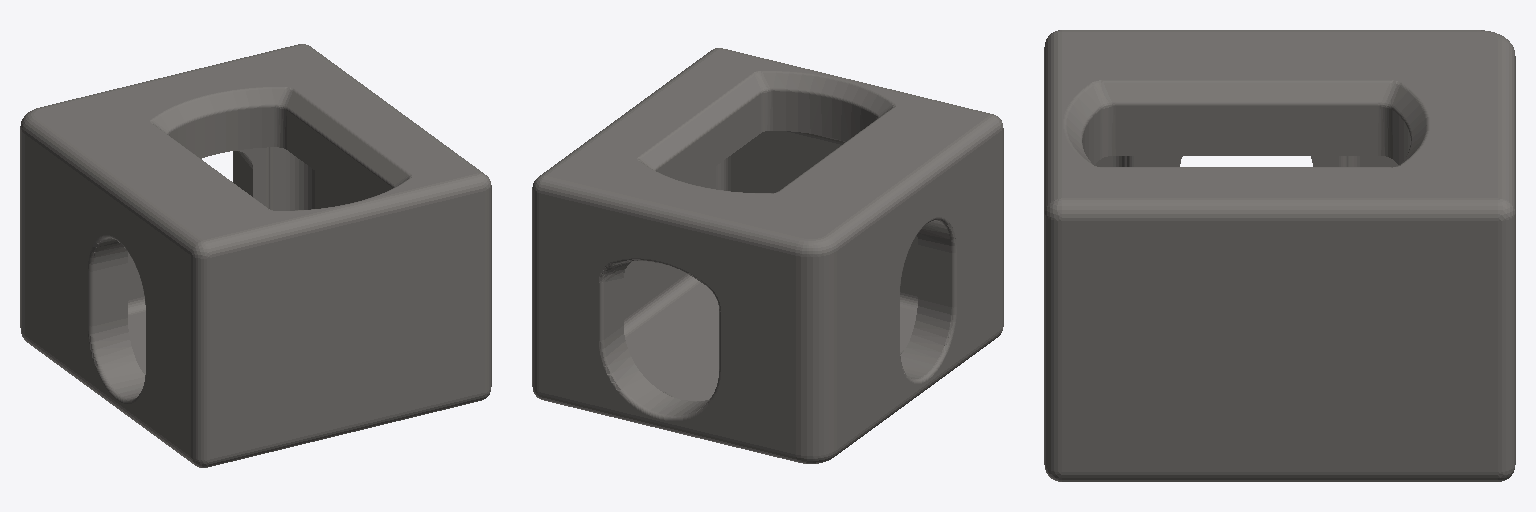
URDF robot description (environment):
<?xml version="1.0" ?>
<robot name="environment">
  <link name="table">
    <visual>
      <geometry>
        <mesh filename="package://dsr_description2/meshes/container_corner/Containerecken_oben_rechts.dae" scale="1 1 1"/>
      </geometry>
    </visual>
  </link>
</robot>


--- What the picture shows (computed from the rendered views, not written in the file) ---
The picture shows the robot from 3 angles, left to right: view 1: azimuth 30°, elevation 25°; view 2: azimuth 150°, elevation 25°; view 3: azimuth 270°, elevation 25°; orthographic projection.
Model environment with 1 links and 0 joints (none), rooted at table, posed all joints at 0.
Links seen in each view (by area): view 1: table; view 2: table; view 3: table.
Link boxes in pixels (x1,y1,x2,y2): table: (20, 44, 491, 467); table: (532, 48, 1003, 463); table: (1044, 30, 1515, 481).
Size in the robot's own frame: 162 by 178 by 118 metres.
1 mesh visuals loaded from 1 distinct referenced files (1 Collada DAE).